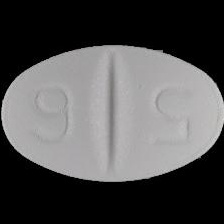68788-9456: (0, 0, 224, 224)
